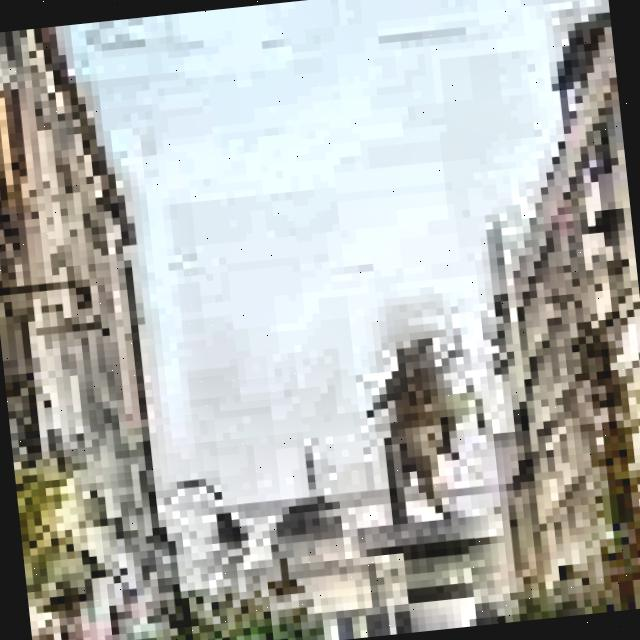alexander the great monument: (328, 318, 512, 638)
